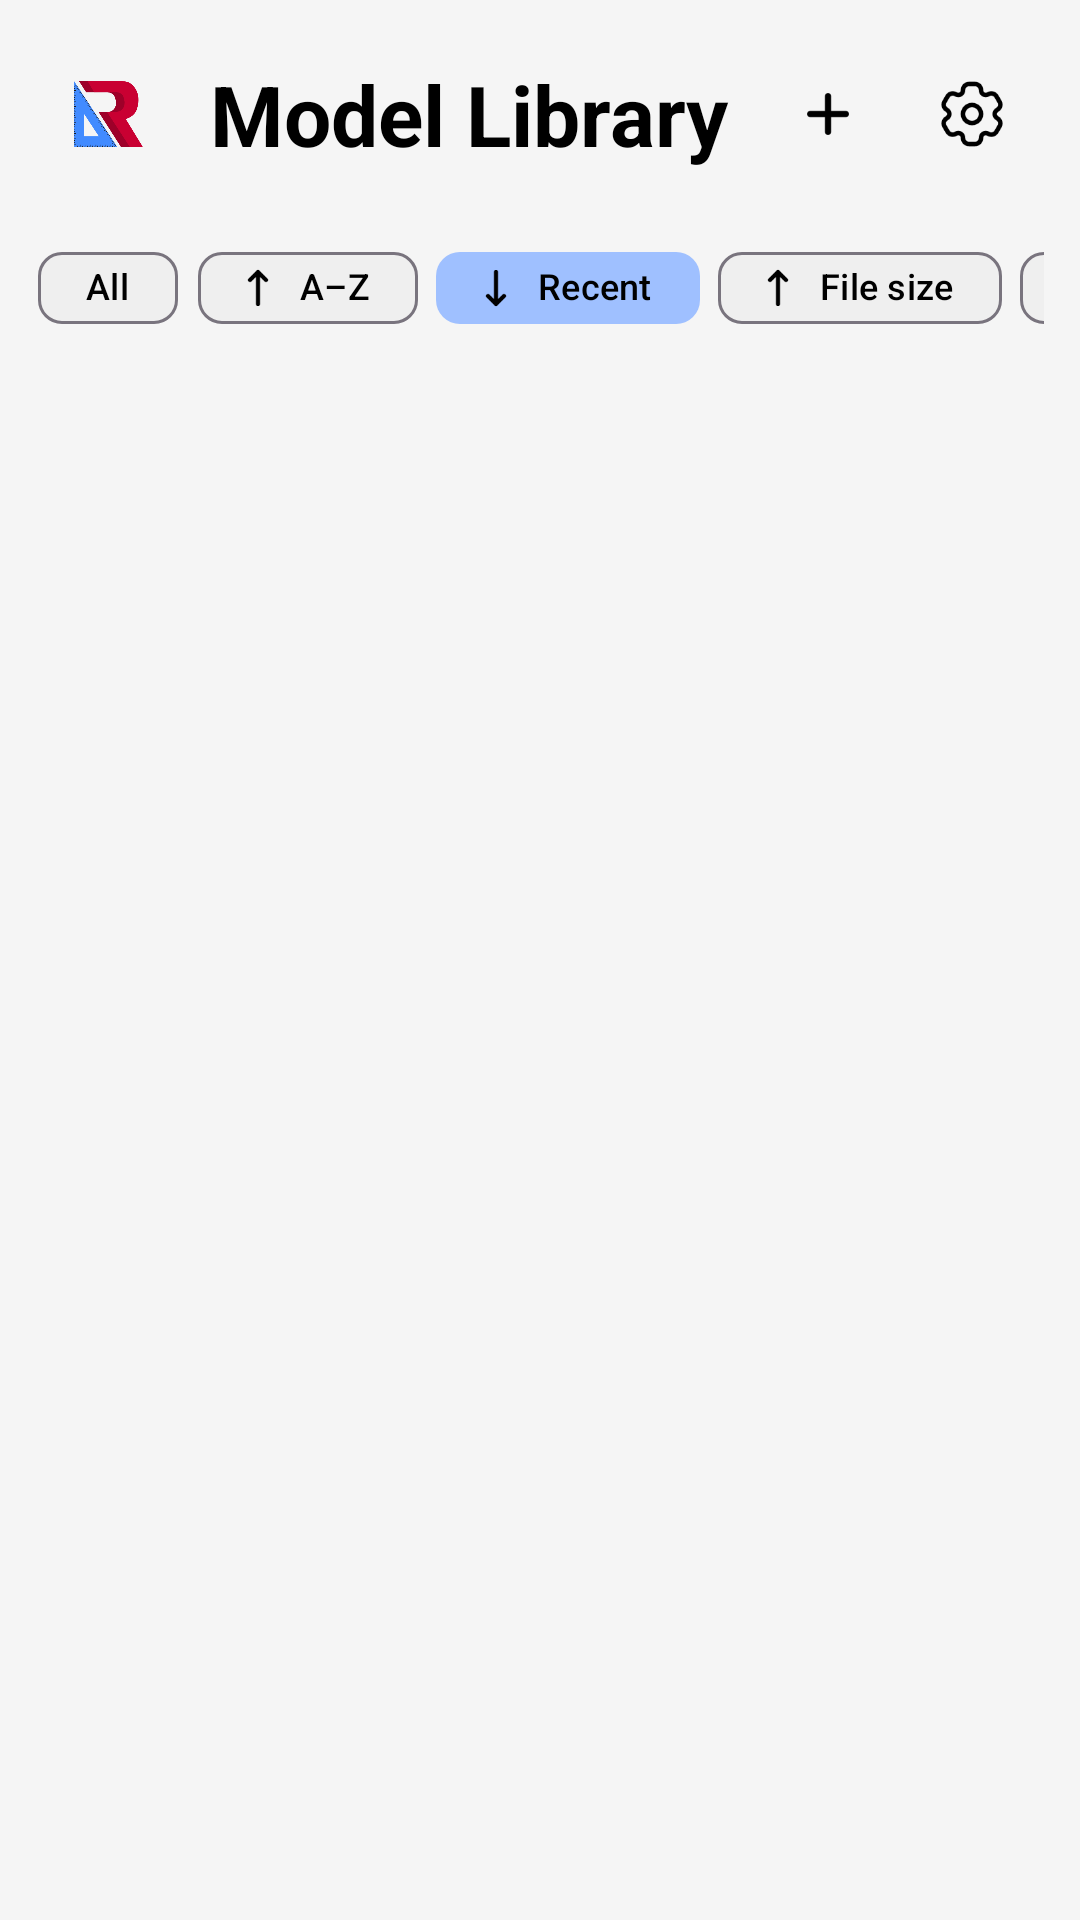

Named icons in this screenshot (1080*1920) and their bounding boxes, (x1, y1, x2, y2):
Import model: (807, 93, 849, 135)
Settings: (941, 81, 1003, 147)
